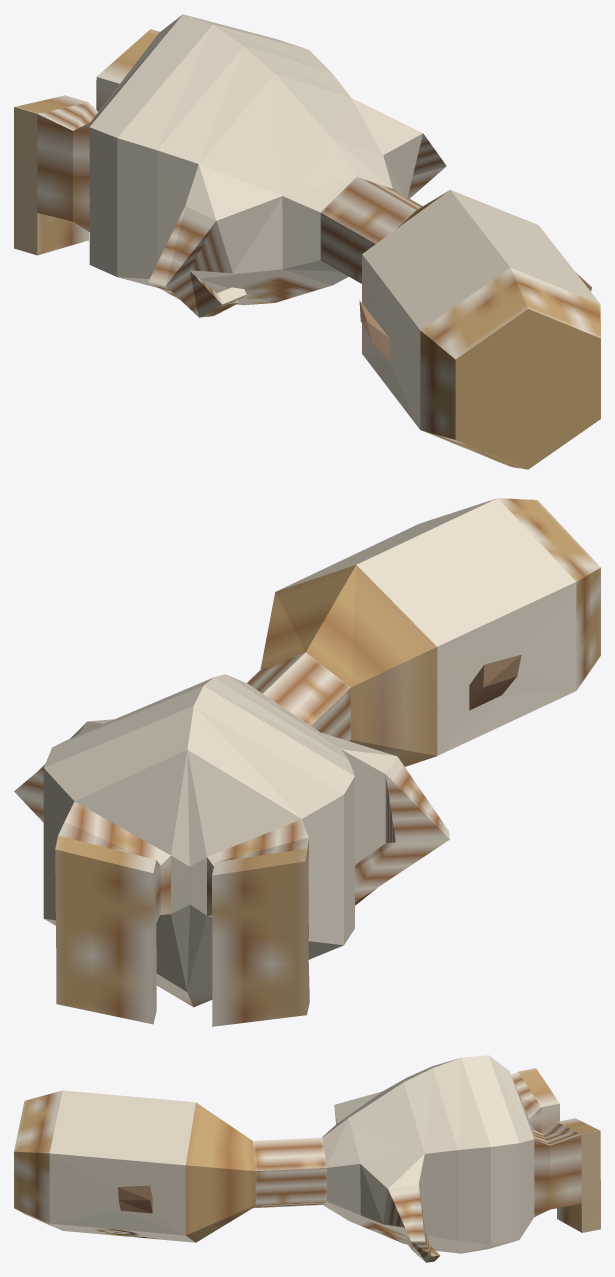
The model's file is ancientIdol_special.obj.
The picture shows the model from 3 angles, top to bottom: view 1: azimuth 30°, elevation 25°; view 2: azimuth 150°, elevation 25°; view 3: azimuth 270°, elevation 25°; orthographic projection. The views are drawn at different scales.
Parts seen in each view (by area): view 1: Cylinder; view 2: Cylinder; view 3: Cylinder.
Boxes of the visible parts, bbox=[...] form: Cylinder: bbox=[14, 14, 600, 469]; Cylinder: bbox=[14, 498, 600, 1026]; Cylinder: bbox=[14, 1055, 600, 1262].
Bounding box in the file's own units: 8.58 × 6.6 × 17.92.
Materials: 1 (1 with a texture image).
